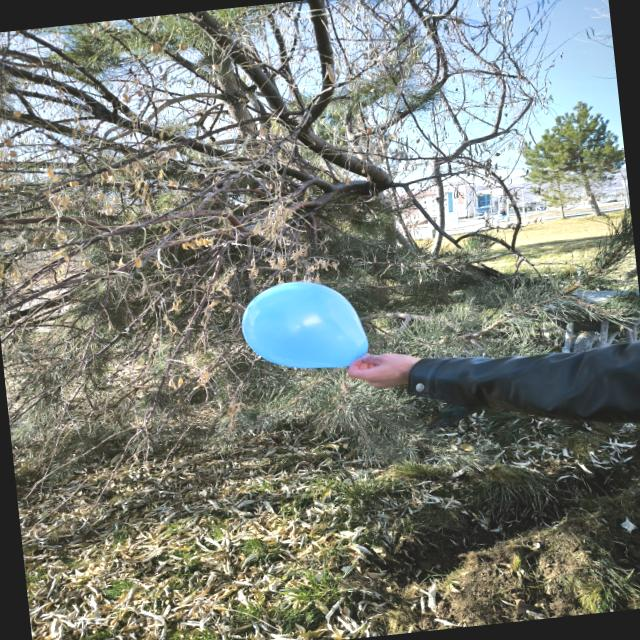balloon: (242, 281, 368, 368)
